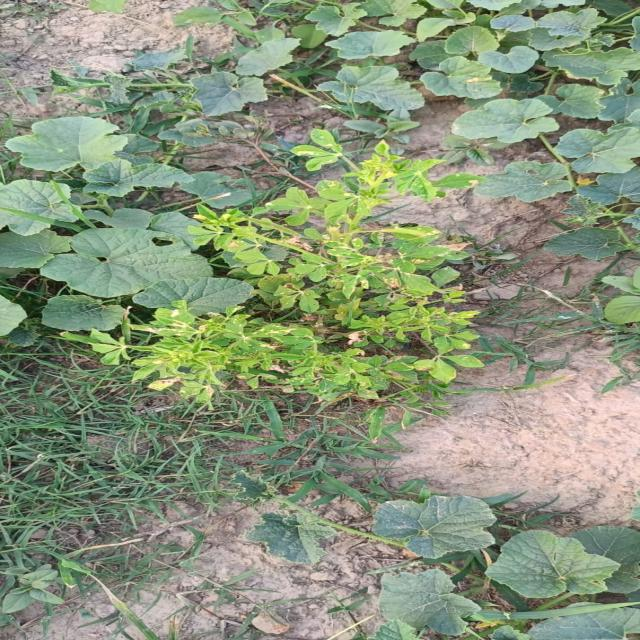plant: (61, 142, 480, 402), (291, 129, 346, 169)
